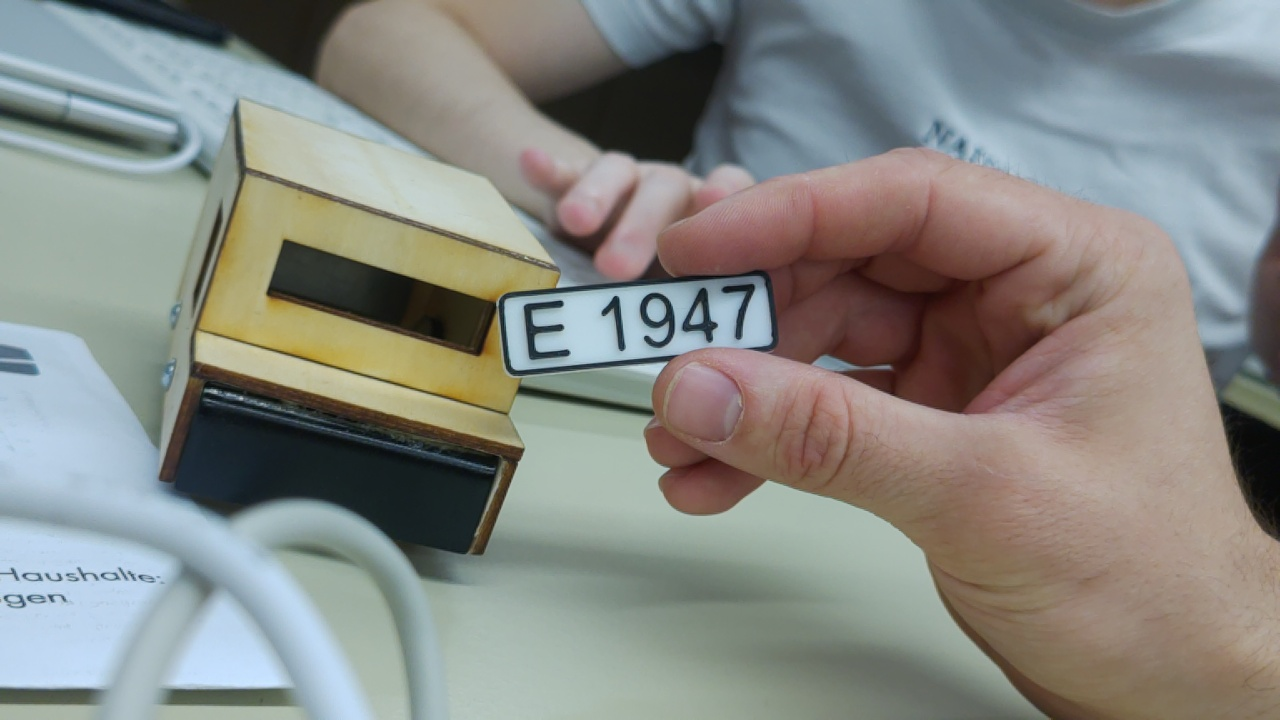license_plate: (490, 262, 785, 381)
